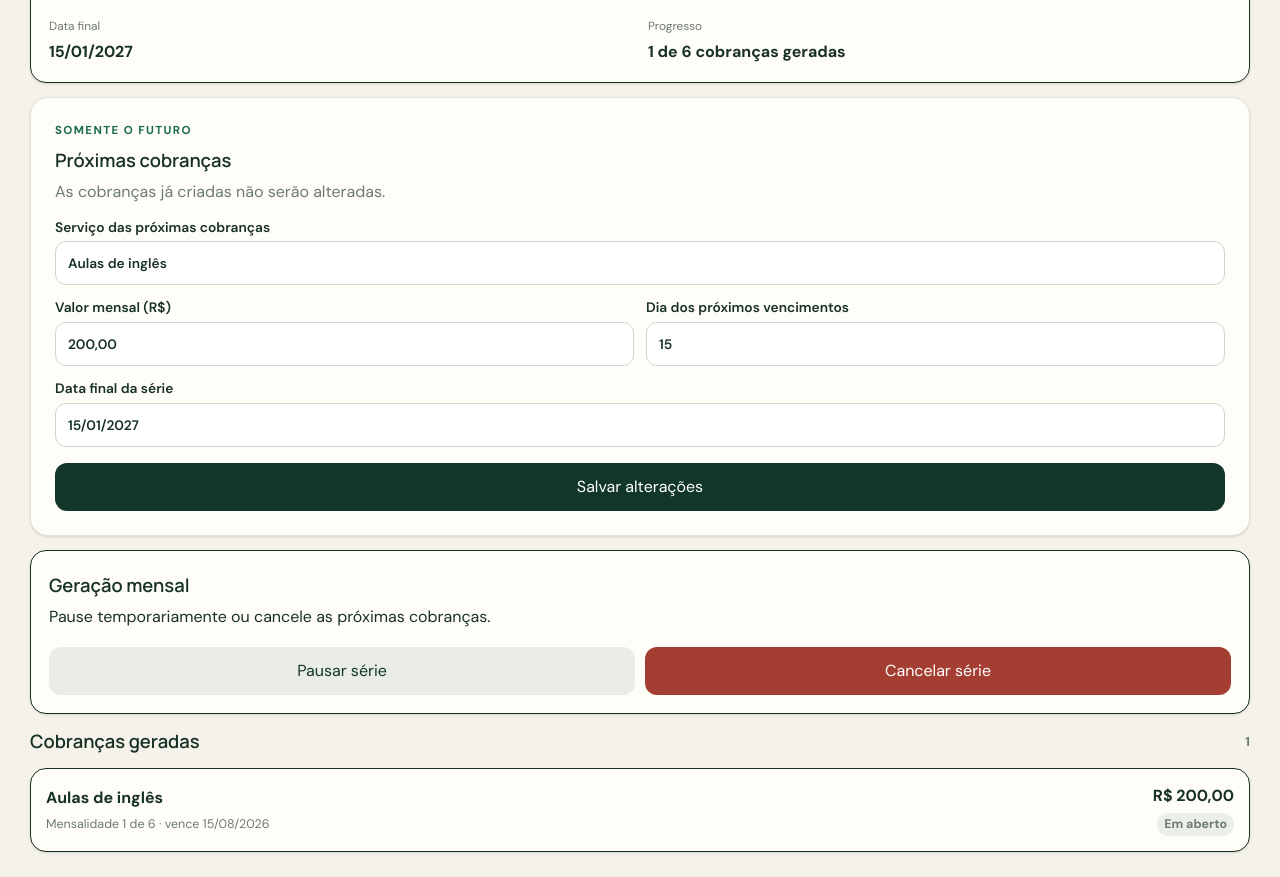
it: série mensal › confirma e pausa a geração sem alterar cobranças existentes
The width and height of the screenshot is (1280, 877).
(page scrolled)
Step 1. Click the button "Pausar série" → click(342, 670), box top-left (49, 646), bottom-right (635, 694)
(page scrolled)
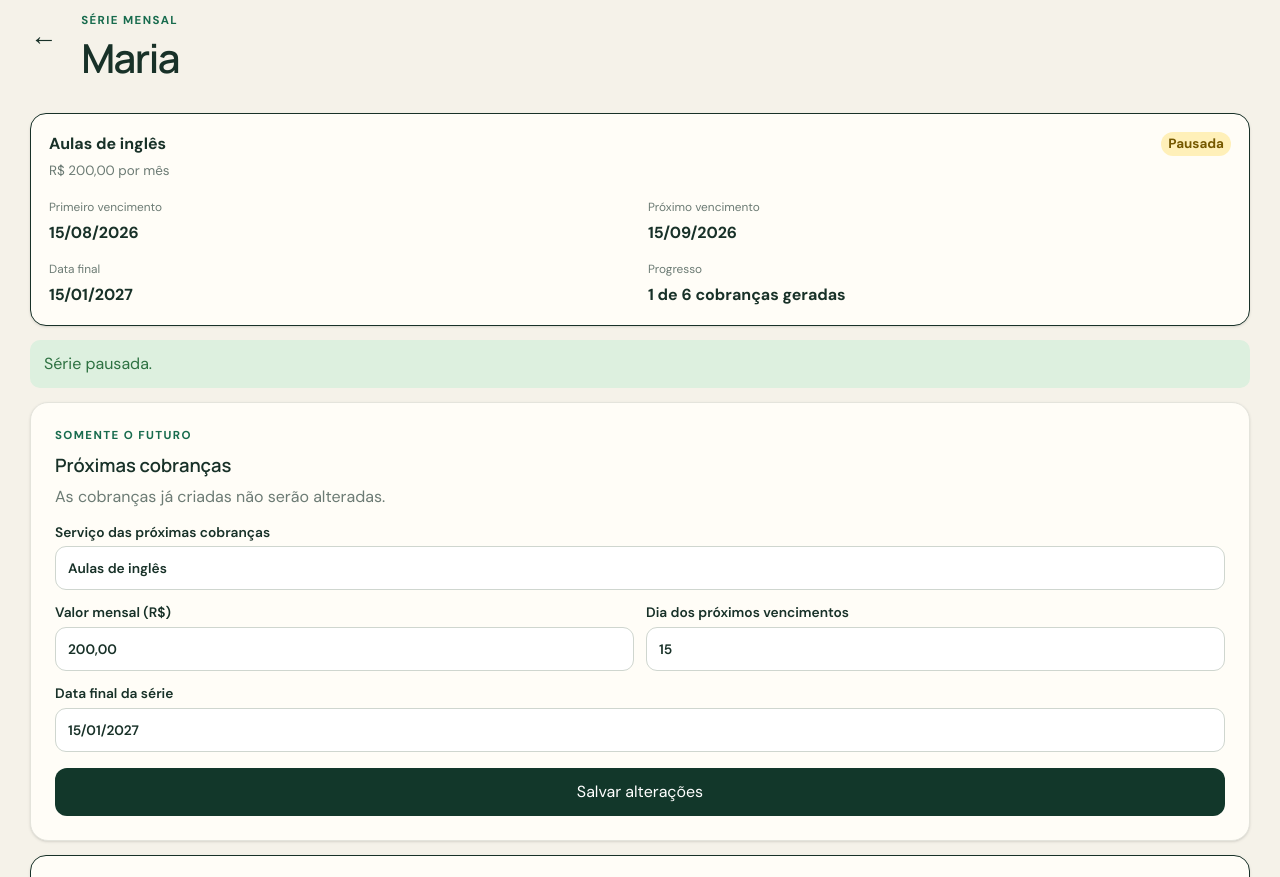
Expected: the text "Pausada" is shown, top-left (1161, 132), bottom-right (1231, 156)
